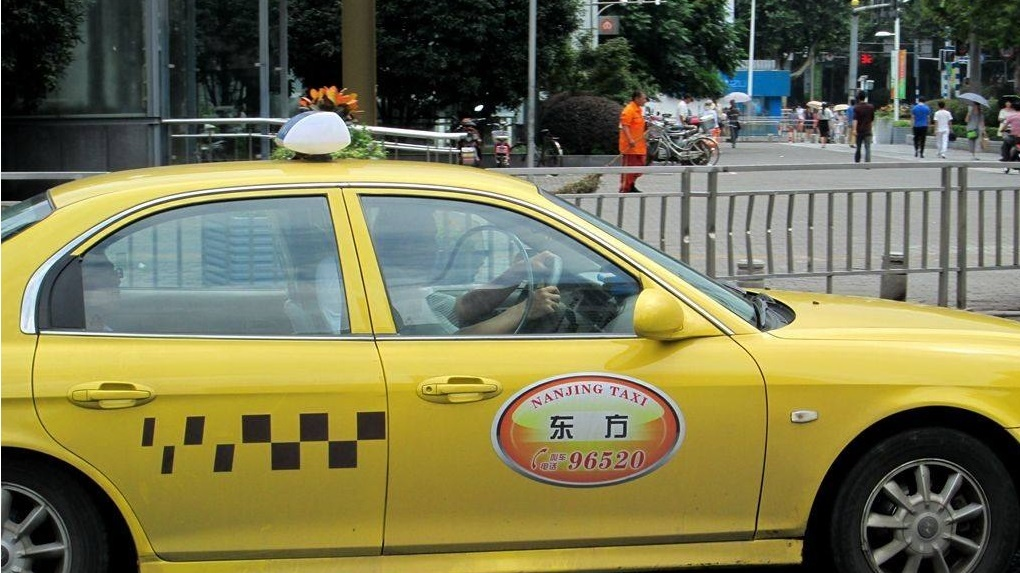taxi: (5, 126, 997, 573)
